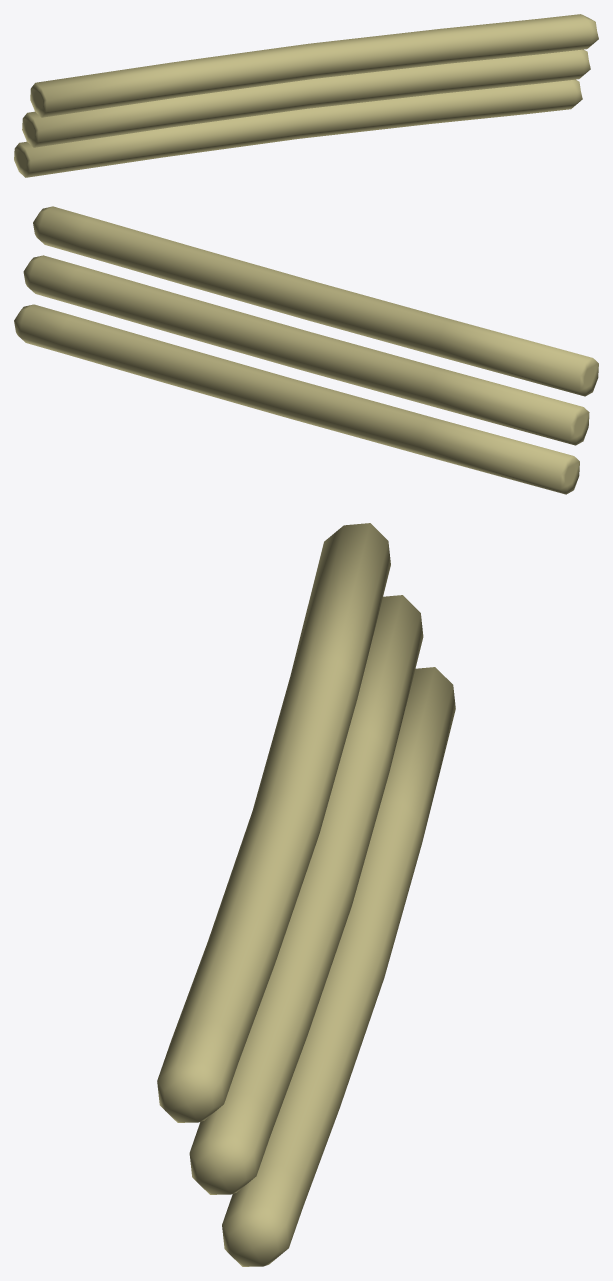
Rendered from Nervio_Vago.FBX.
The picture shows the model from 3 angles, top to bottom: view 1: azimuth 30°, elevation 25°; view 2: azimuth 150°, elevation 25°; view 3: azimuth 270°, elevation 25°; orthographic projection. The views are drawn at different scales.
Parts seen in each view (by area): view 1: Nerves_L8; view 2: Nerves_L8; view 3: Nerves_L8.
Boxes of the visible parts, <box> form: Nerves_L8: <box>14,14,598,177</box>; Nerves_L8: <box>14,206,598,494</box>; Nerves_L8: <box>157,523,455,1266</box>.
Size of the model in its own units: 0.2476 by 0.0579 by 0.0622.
